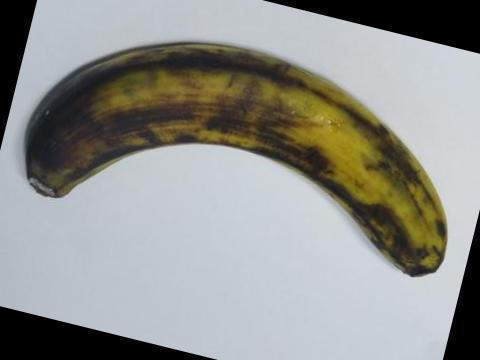overripe: (15, 38, 454, 281)
rotten: (17, 70, 126, 209)
